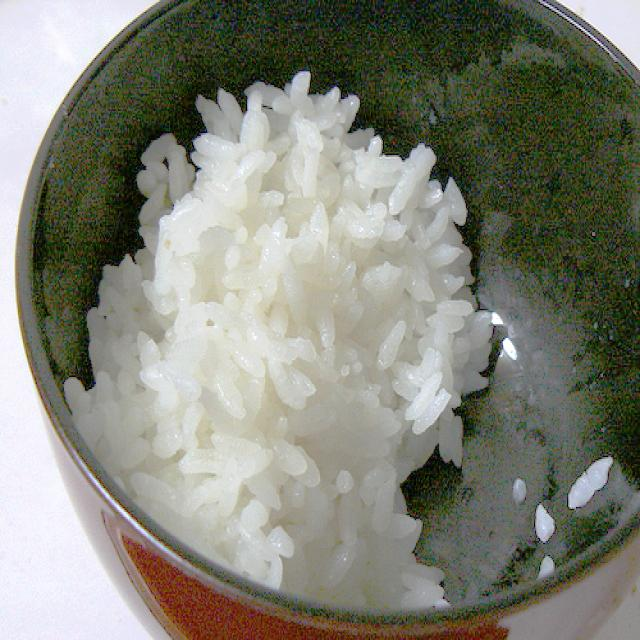rice: (60, 70, 613, 608)
